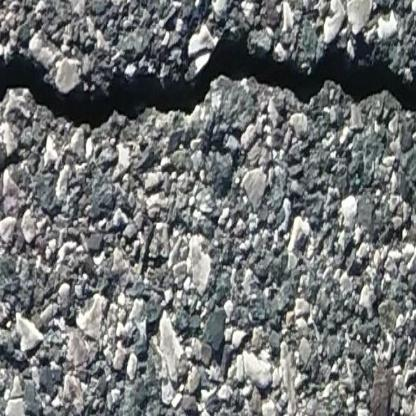Cracks: (0, 7, 416, 143)
